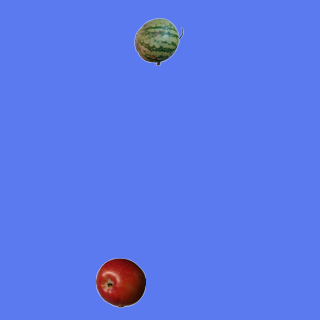Apple Braeburn: (95, 257, 145, 307)
Watermelon: (133, 16, 183, 66)
